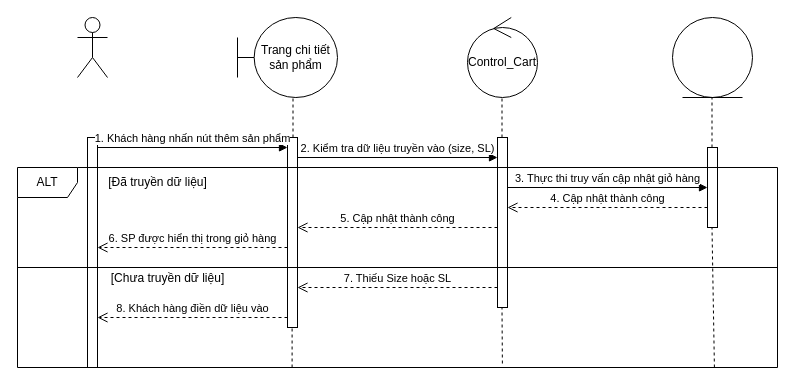
Image size: 795x386. Some labels were removed from this diagram. Here are the shapes that lost their labels. From the top down, the box of each, then its label:
(76, 16, 108, 78): Khách hàng
(672, 16, 752, 98): CSDL_Cart
